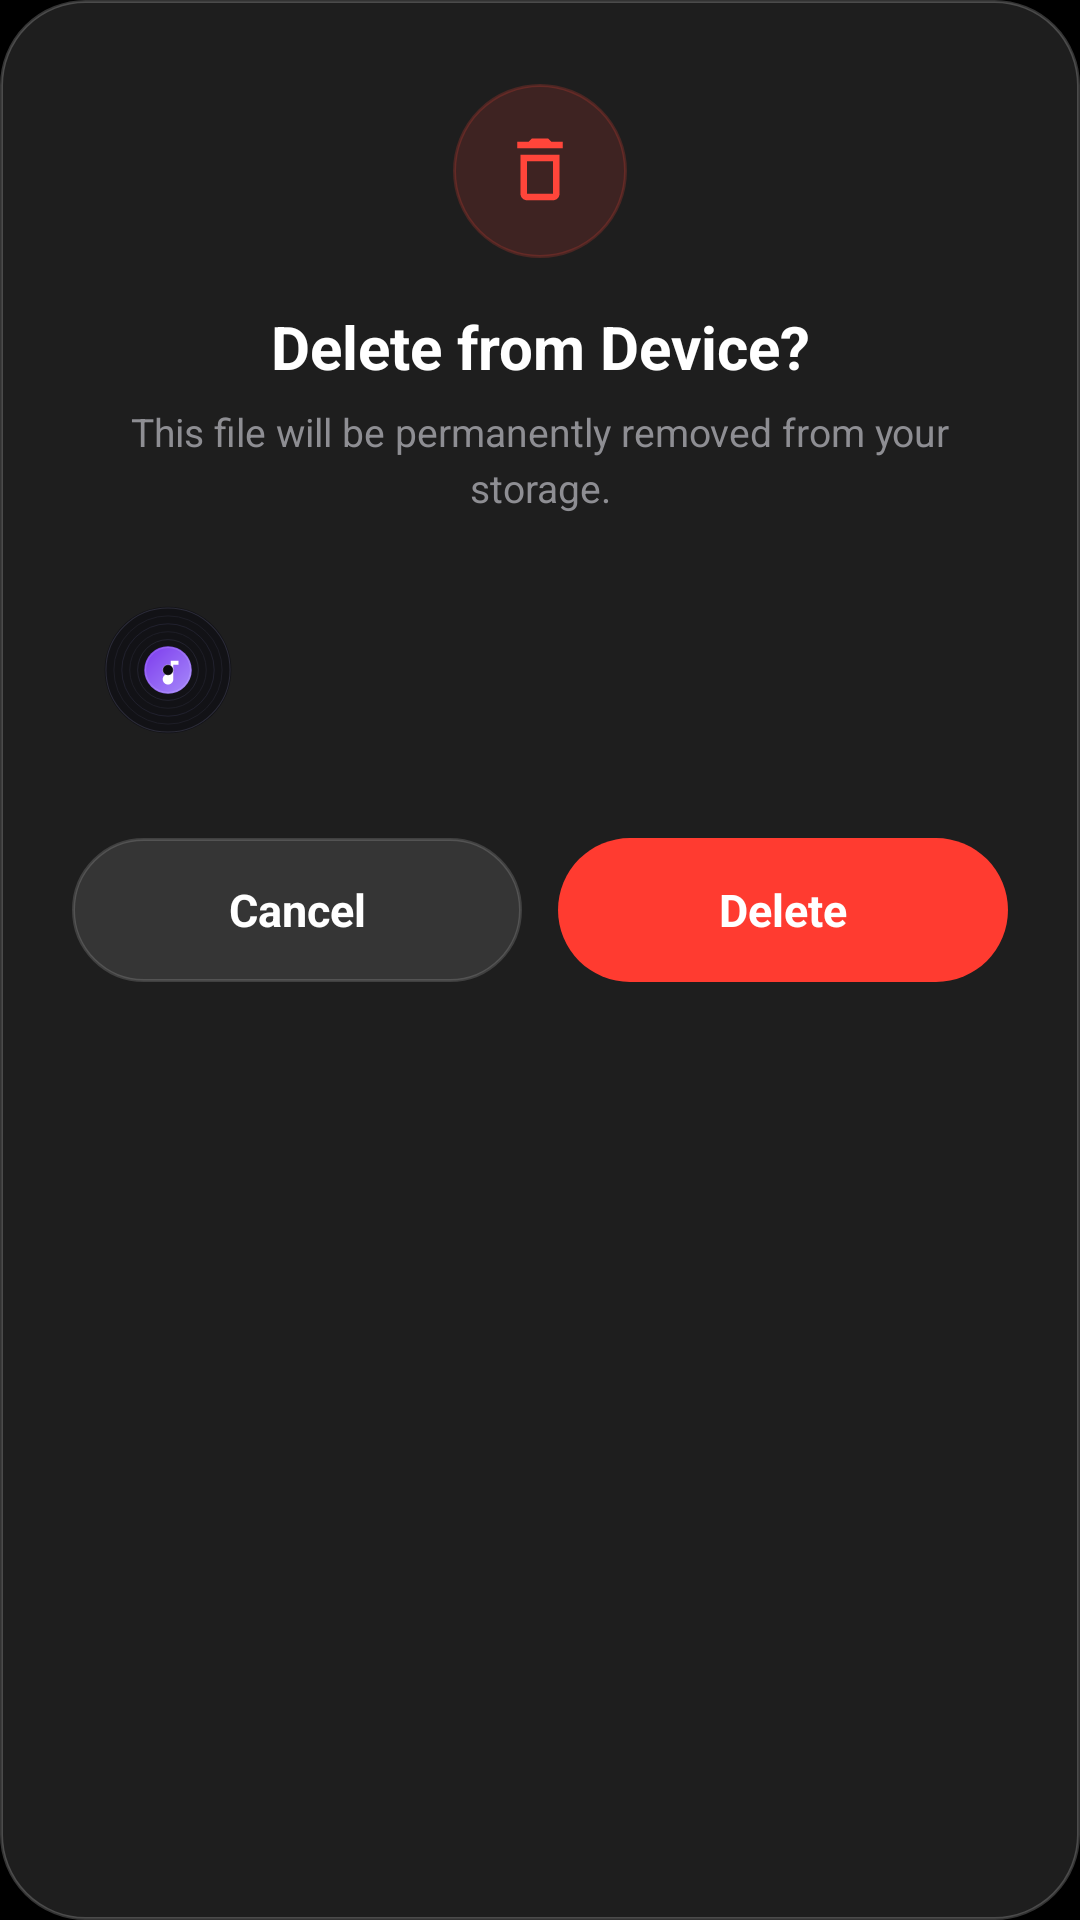

Icon bounding boxes for this 1080x1920 phone screenshot, format (x1, y1, x2, y2):
album art: (105, 607, 231, 733)
trash modern: (517, 138, 563, 201)
